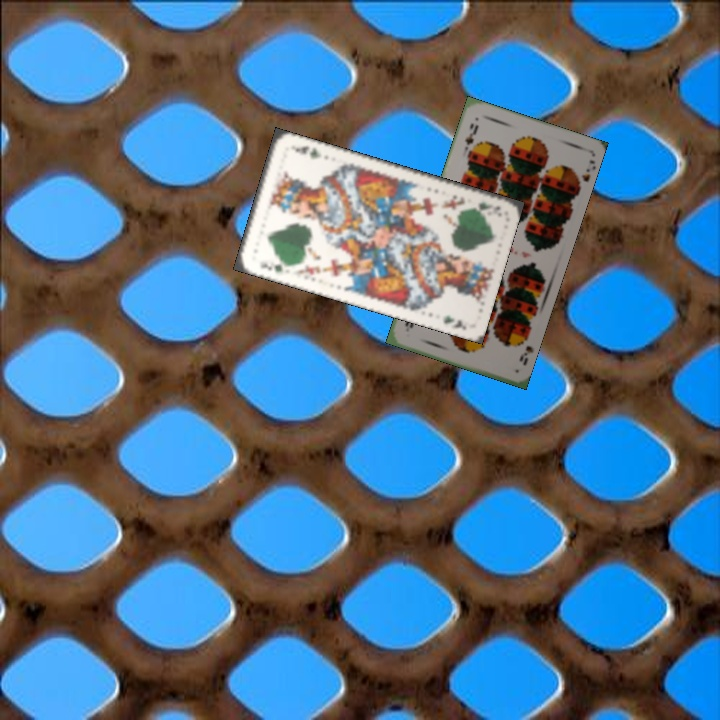GK: (466, 198, 504, 219), (256, 258, 292, 275)
S9: (515, 330, 535, 368), (461, 119, 481, 148)
